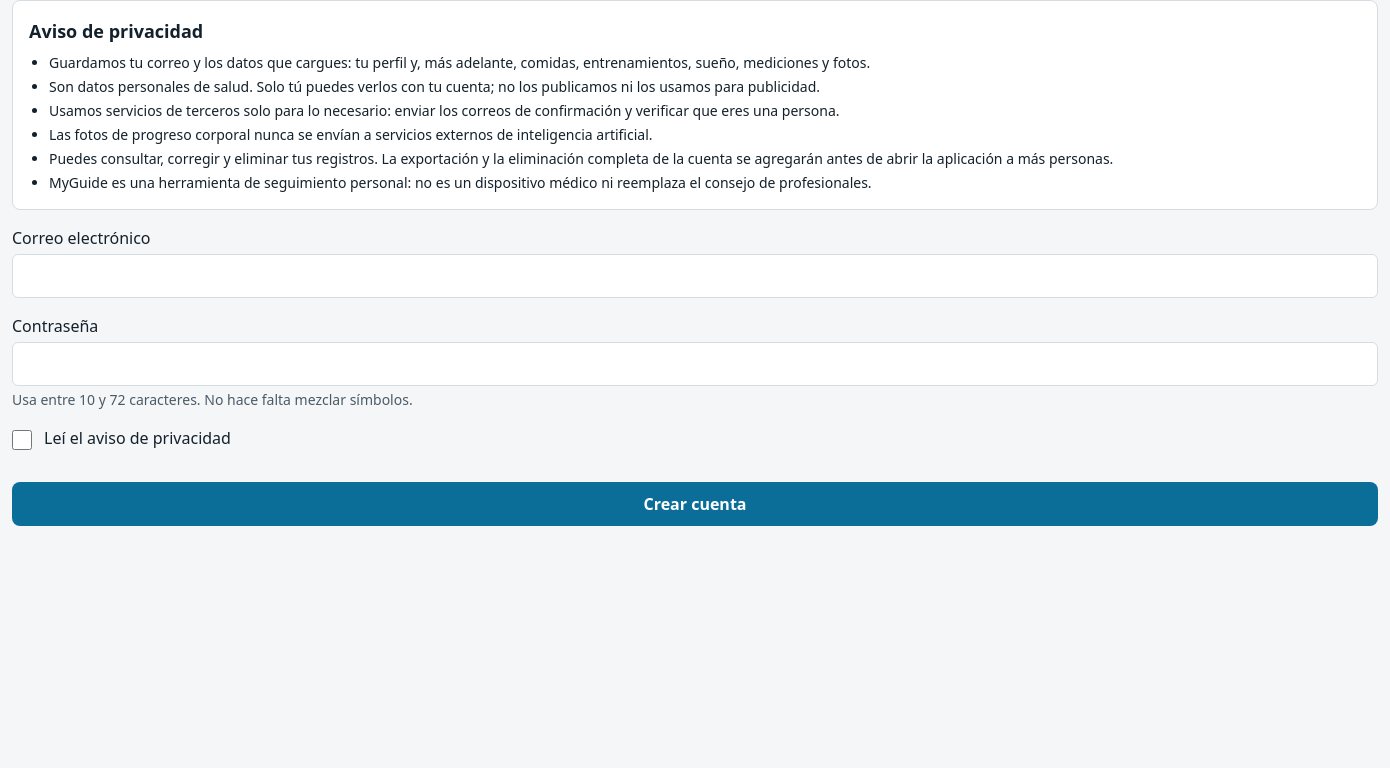
Test: RegisterForm › FR-029: exige marcar el aviso de privacidad y no envía sin hacerlo
Type "persona@ejemplo.com" into the field labelled "Correo electrónico" at (695, 276), box x1=12 y1=254 x2=1378 y2=298
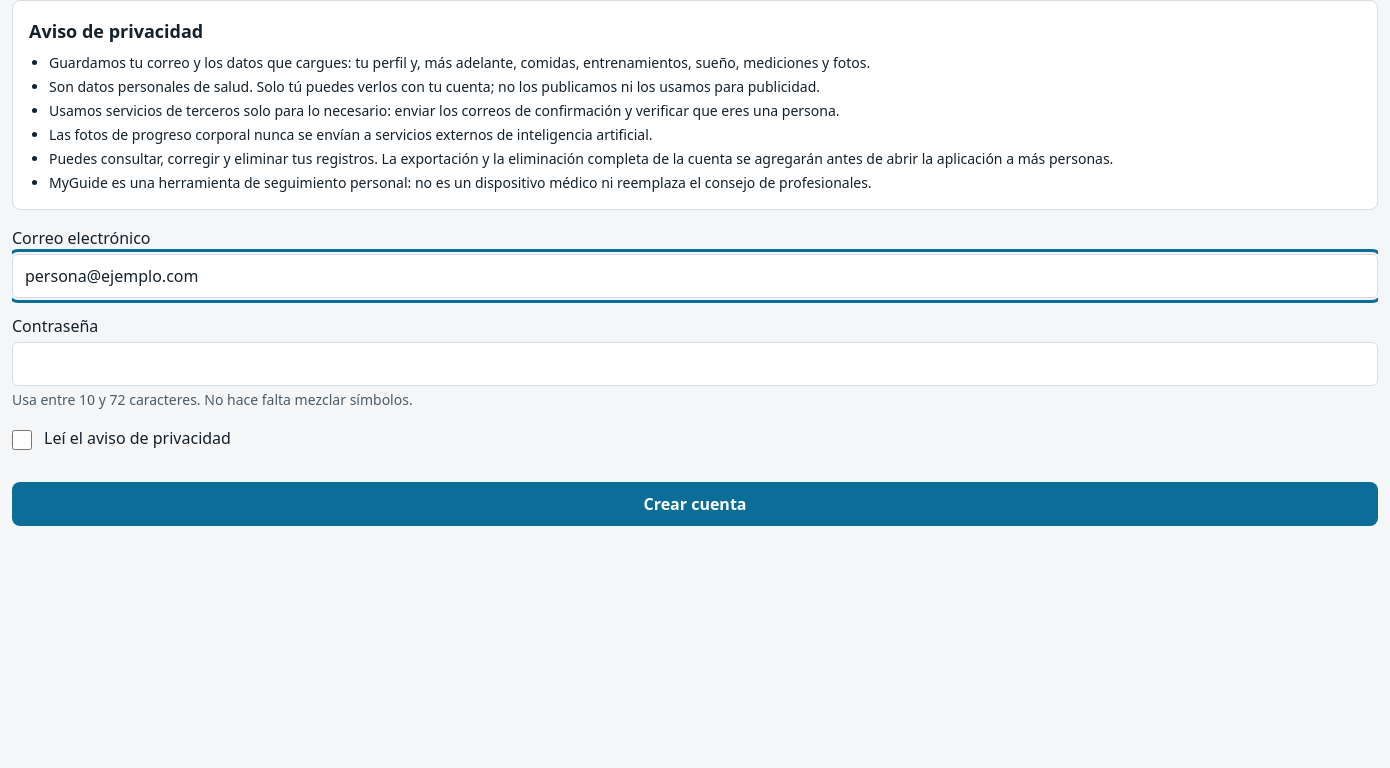
Type "una-clave-muy-larga" into the password field labelled "Contraseña" at (695, 364), box x1=12 y1=342 x2=1378 y2=386
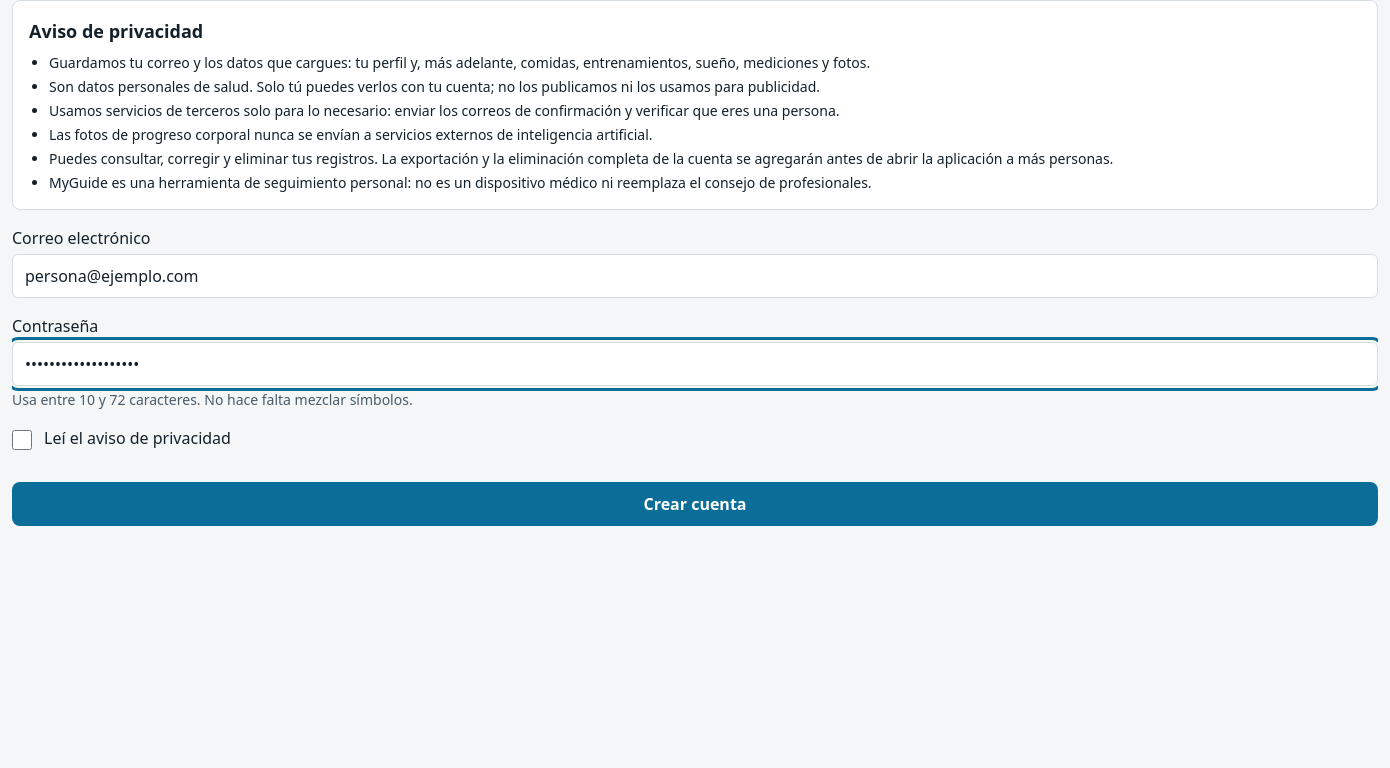
Click the button "Crear cuenta" at (695, 504), box x1=12 y1=482 x2=1378 y2=526
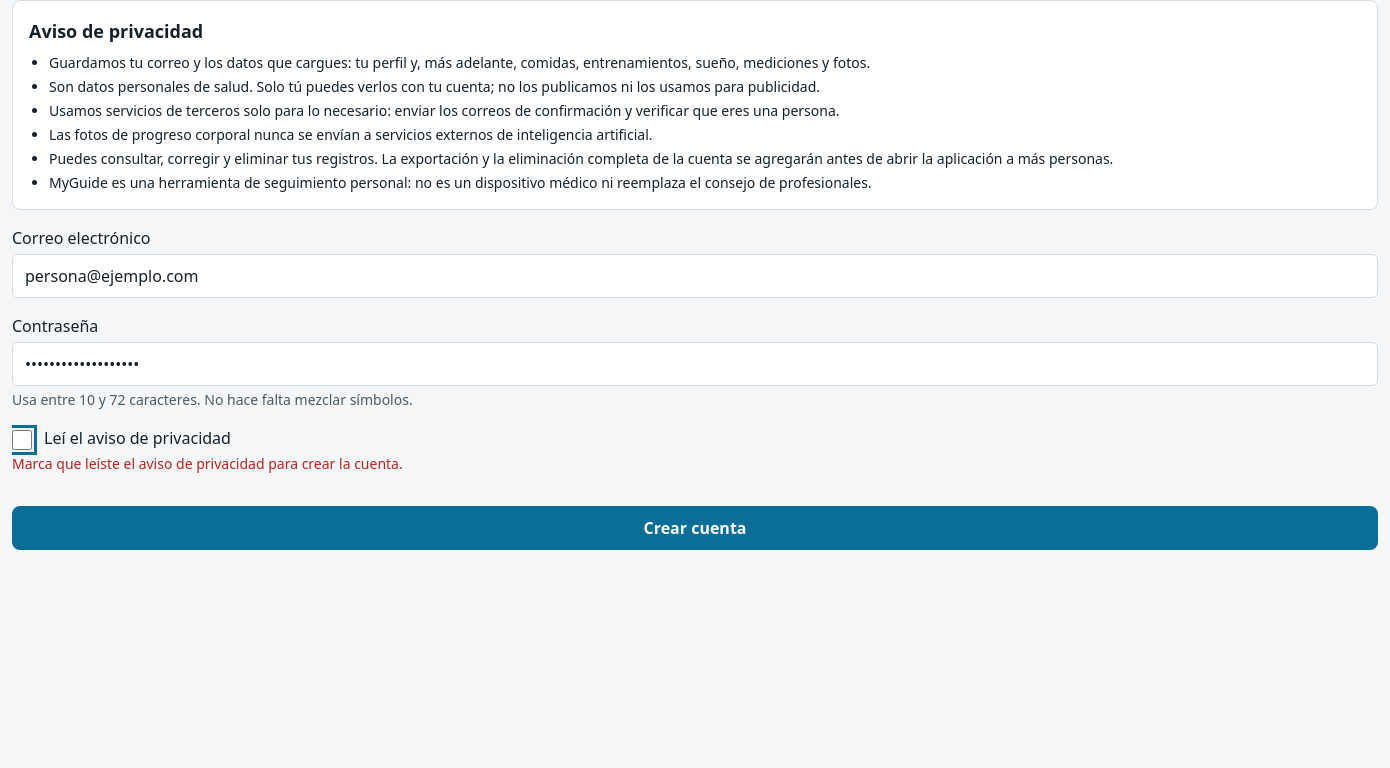
Now the text "Marca que leíste el aviso de privacidad para crear la cuenta." is shown, box x1=12 y1=454 x2=403 y2=473
